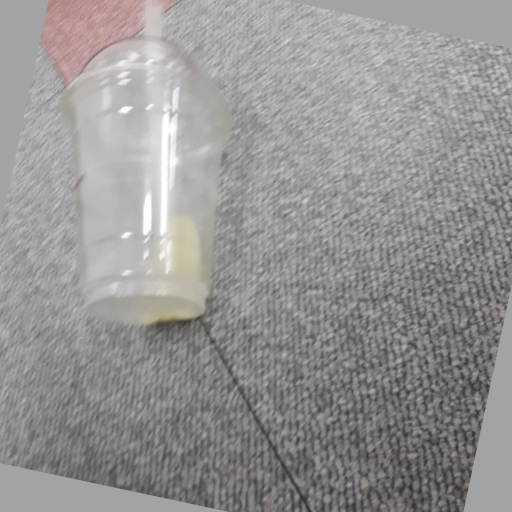Plastic_2: (60, 1, 231, 332)
